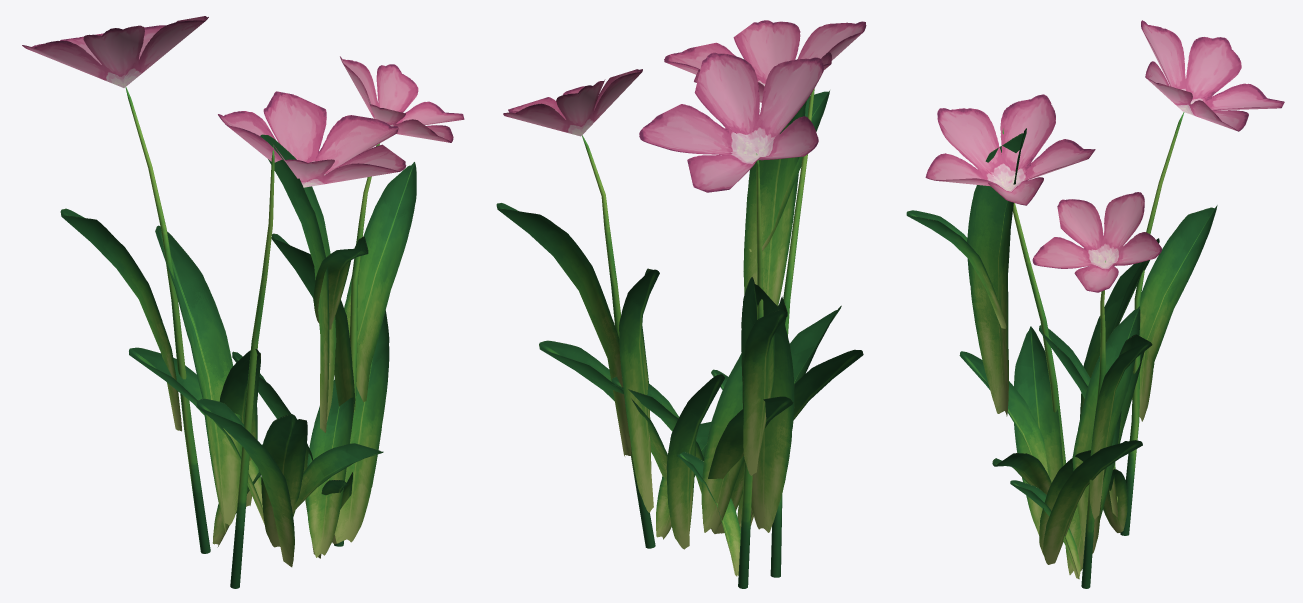
Rendered from glade_wildflowers.glb.
3 views of the same model, side by side, from view 1: azimuth 30°, elevation 25°; view 2: azimuth 150°, elevation 25°; view 3: azimuth 270°, elevation 25° (orthographic). The views are drawn at different scales.
Visible parts, largest first — view 1: glade_wildflowers; view 2: glade_wildflowers; view 3: glade_wildflowers.
Part boxes in pixels (x1,y1,x2,y2): glade_wildflowers: [22, 16, 464, 588]; glade_wildflowers: [496, 20, 866, 588]; glade_wildflowers: [906, 20, 1284, 588].
Size of the model in its own units: 6.42 by 9 by 6.35.
Materials: 2 (2 with a texture image).
